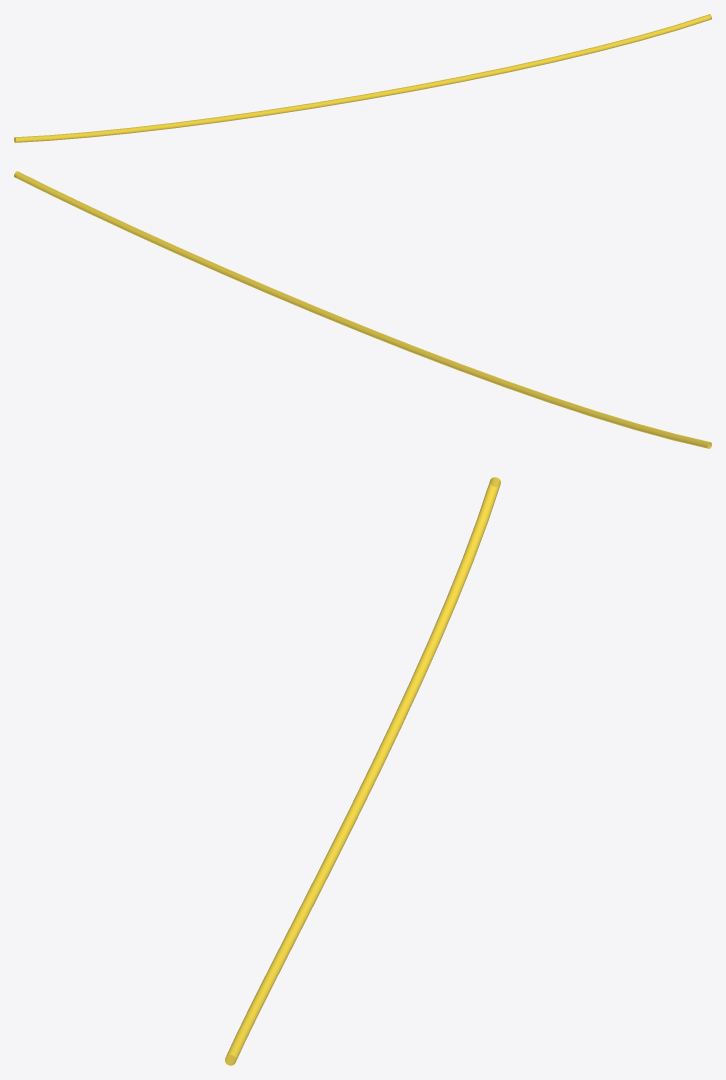
Rendered from Event_31209032_track_34.fbx.
3 renders of one model, top to bottom at view 1: azimuth 30°, elevation 25°; view 2: azimuth 150°, elevation 25°; view 3: azimuth 270°, elevation 25°, orthographic. The views are drawn at different scales.
Parts seen in each view (by area): view 1: Model; view 2: Model; view 3: Model.
Part boxes in pixels (box(x1,y1,x2,y2)): Model: box(14, 14, 711, 142); Model: box(14, 171, 711, 448); Model: box(225, 477, 500, 1065).
Bounding box in the file's own units: 5.13 × 0.2601 × 0.9727.
